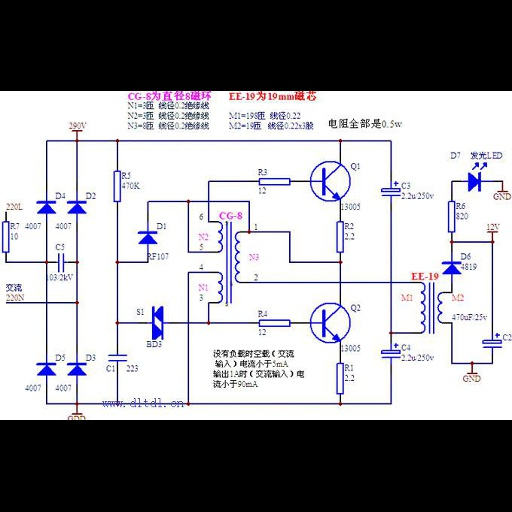capacitor: (52, 251, 71, 274), (105, 351, 129, 364)
firstdiode: (441, 257, 462, 282), (32, 361, 58, 381), (134, 228, 159, 247), (34, 199, 59, 217), (65, 361, 90, 379), (64, 199, 88, 215)
firstled: (464, 159, 489, 195)
firstresistance: (330, 218, 345, 257), (330, 361, 345, 395), (444, 197, 456, 234), (255, 176, 295, 187), (110, 170, 122, 203), (254, 318, 293, 328), (2, 219, 10, 257)
npn: (317, 163, 343, 201), (317, 306, 343, 341)
secondpolarcapacitor: (376, 178, 401, 201), (478, 331, 503, 353), (378, 341, 402, 362)
transformer: (214, 220, 243, 307), (418, 282, 446, 336)
